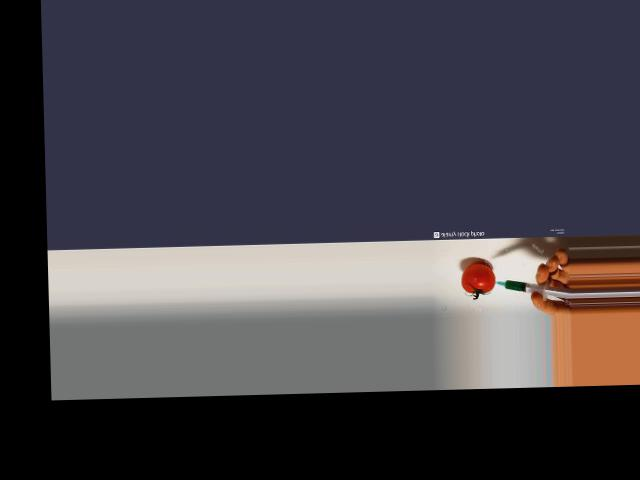tomato: (462, 262, 496, 293)
